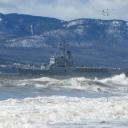Portanaves: (14, 36, 128, 80)
